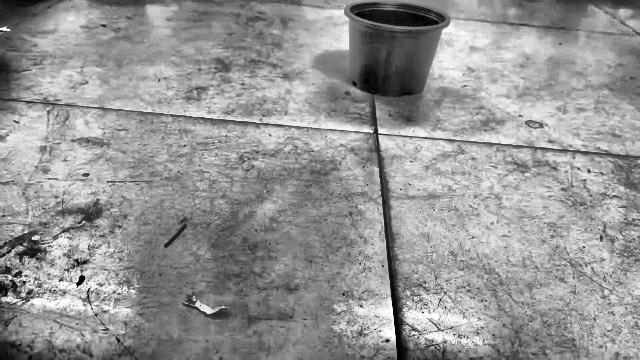pot: (345, 0, 449, 96)
